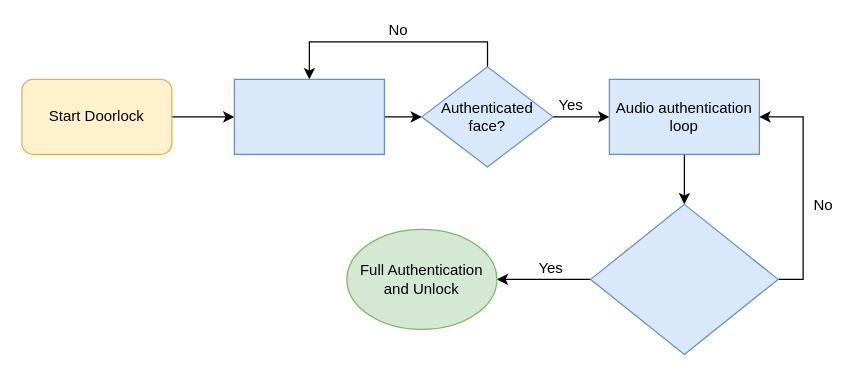
Some shapes in this 854 by 376 pixel diagram are drawn without their labels. Each missing label, with the centre of its shape:
"Face identification loop" belongs at [308,116].
"Voice authenticated above threshold confidence?" belongs at [683,278].
